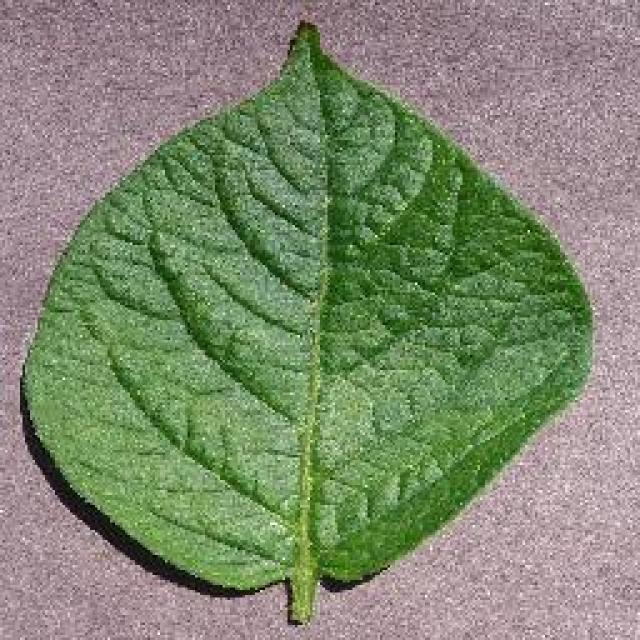healthy: (15, 18, 597, 622)
